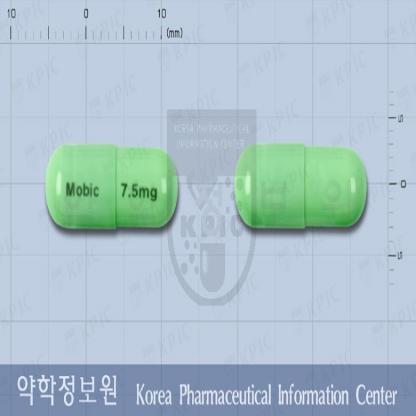pill: (43, 138, 177, 230), (232, 140, 368, 228)
